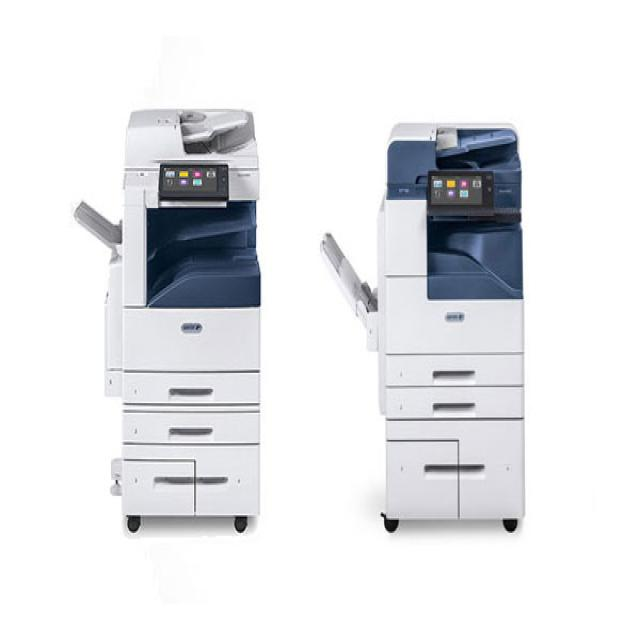printer: (319, 120, 526, 533), (72, 104, 262, 534)
